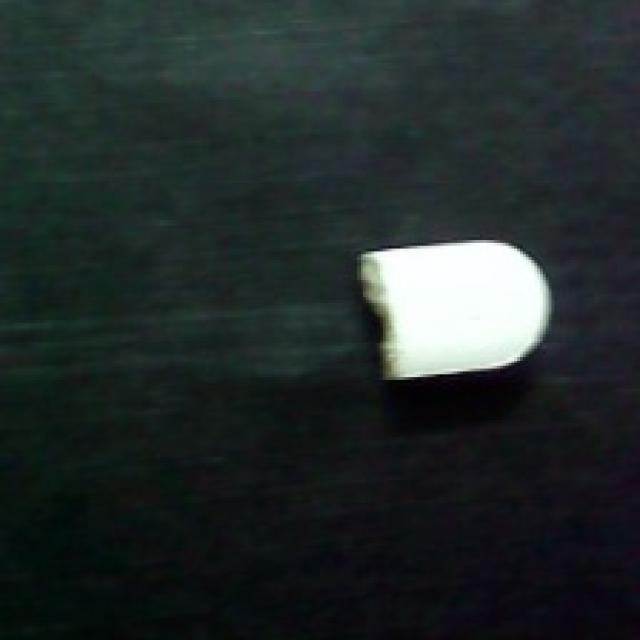defected: (350, 231, 562, 386)
